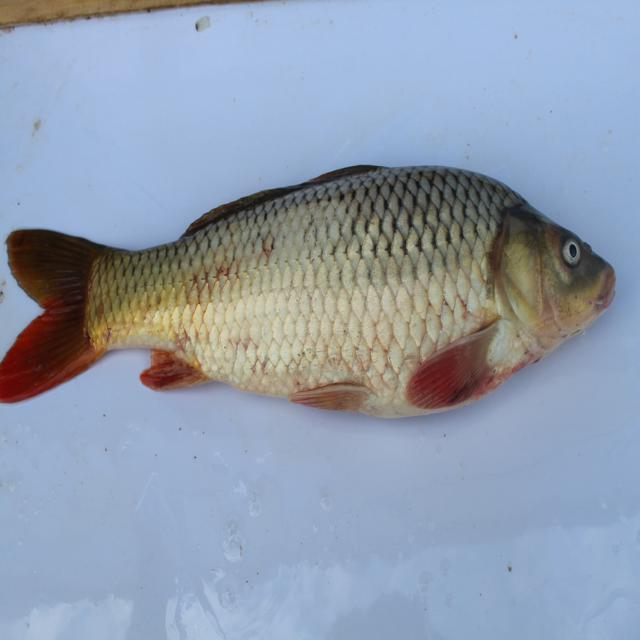CommonCarp: (4, 157, 620, 427)
